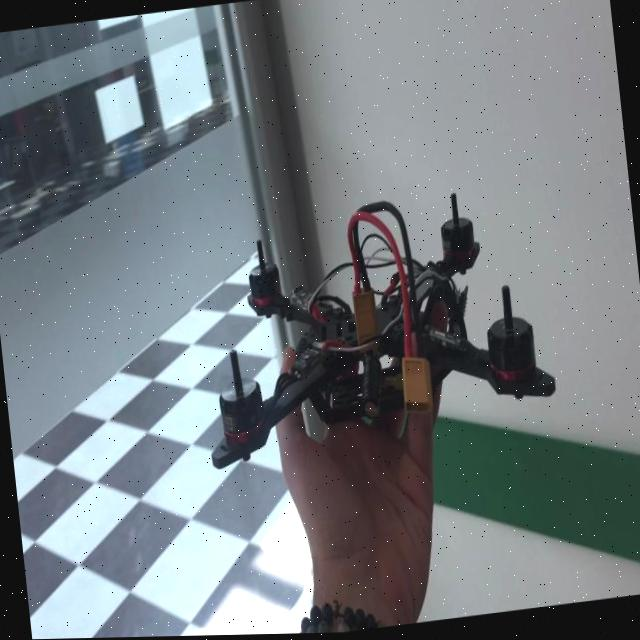drone: (190, 167, 566, 470)
